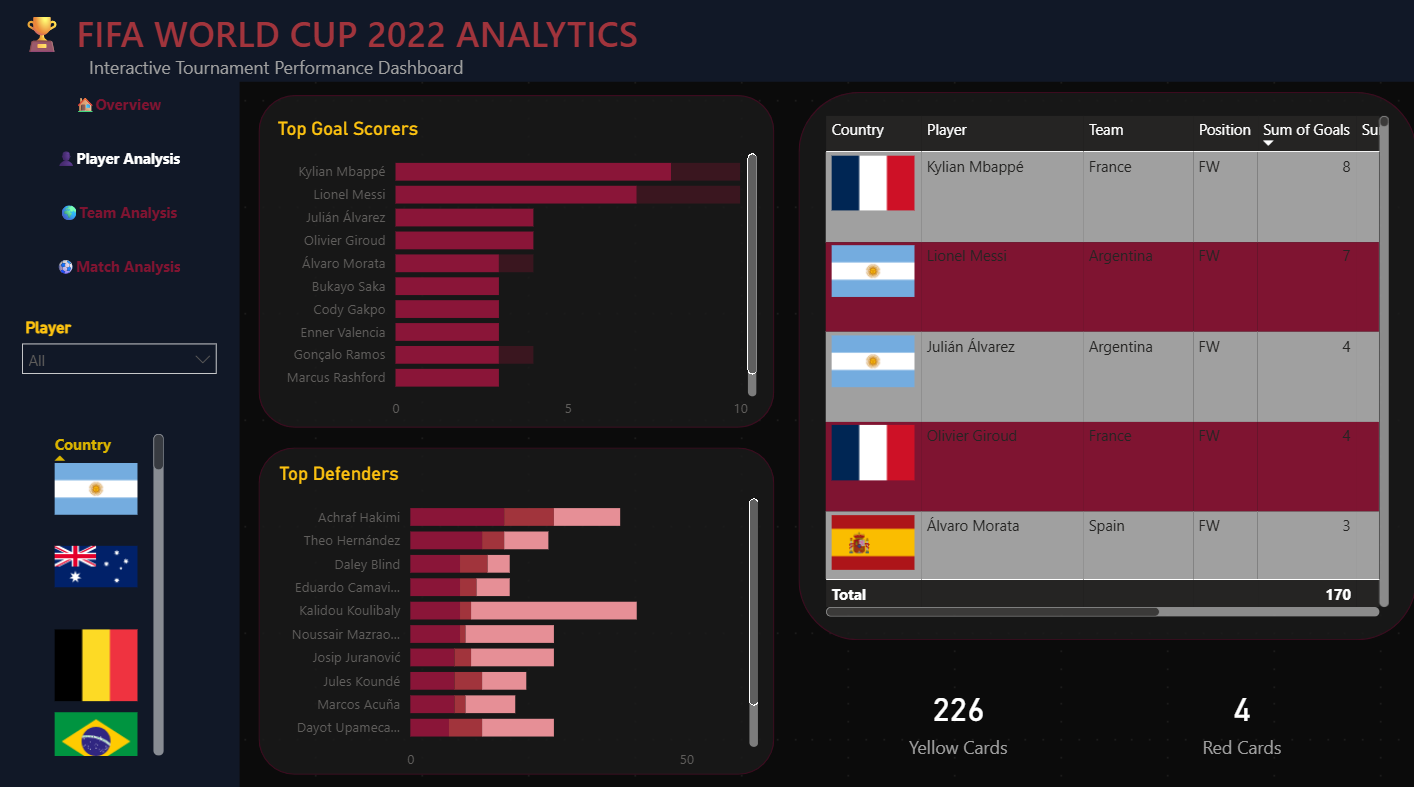

The dashboard page shown, as its layout file describes it:
{"tool":"powerbi","page":{"name":"👤Player Analysis","canvas":[1280,720],"ordinal":1},"visuals":[{"type":"shape","box":[722.9,88.6,557.1,494.3],"z":0},{"type":"shape","box":[0,0,219.4,819.8],"z":1000},{"type":"shape","box":[0,0,1600,80],"z":2000},{"type":"textbox","box":[0,10,1590,50],"z":3000},{"type":"textbox","box":[0,50,1380,40],"z":4000},{"type":"pageNavigator","box":[0,80.4,220.5,189.4],"z":5000},{"type":"shape","box":[236.7,91.7,465,300],"z":6000},{"type":"barChart","title":"Top Goal Scorers","fields":{"Category":["Players.Player"],"Y":["Sum(Players.Goals)","Sum(Players.Assists)"]},"box":[248.3,111.7,441.7,280],"z":7000},{"type":"tableEx","fields":{"Values":["Players.Country FLag","Players.Player","Players.Team","Players.Position","Sum(Players.Goals)","Sum(Players.Assists)","Sum(Players.Shots)","Sum(Players.Passes Completed)"]},"box":[741.7,105,518.3,461.7],"z":8000},{"type":"slicer","fields":{"Values":["Players.Player"]},"box":[13.3,288.3,195,71.7],"z":9000},{"type":"card","fields":{"Values":["Sum(Players.Yellow Cards)"]},"box":[761.7,590,211.7,130],"z":10000},{"type":"card","fields":{"Values":["Sum(Players.Red Cards)"]},"box":[1001.7,590,241.7,130],"z":11000},{"type":"shape","box":[236.7,410,465,295],"z":12000},{"type":"barChart","title":"Top Defenders","fields":{"Y":["Sum(Players.successful_tackles)","Sum(Players.interceptions)","Sum(Players.clearence)"],"Category":["Players.Player"]},"box":[250,423.3,441.7,285],"z":13000},{"type":"tableEx","fields":{"Values":["Players.Country FLag"]},"box":[42,392,114,300],"z":14000}]}

Visuals, with their boxes on the page's 1280x720 design canvas (x1, y1, x2, y2). These are canvas units, not pixel positions in the 1414x787 screenshot, which may show the page scaled, cropped or inside an application window:
shape: {"x1": 723, "y1": 89, "x2": 1280, "y2": 583}
shape: {"x1": 0, "y1": 0, "x2": 219, "y2": 820}
shape: {"x1": 0, "y1": 0, "x2": 1600, "y2": 80}
textbox: {"x1": 0, "y1": 10, "x2": 1590, "y2": 60}
textbox: {"x1": 0, "y1": 50, "x2": 1380, "y2": 90}
pageNavigator: {"x1": 0, "y1": 80, "x2": 220, "y2": 270}
shape: {"x1": 237, "y1": 92, "x2": 702, "y2": 392}
"Top Goal Scorers" barChart: {"x1": 248, "y1": 112, "x2": 690, "y2": 392}
tableEx - Players.Country FLag x Players.Player: {"x1": 742, "y1": 105, "x2": 1260, "y2": 567}
slicer - Players.Player: {"x1": 13, "y1": 288, "x2": 208, "y2": 360}
card - Sum(Players.Yellow Cards): {"x1": 762, "y1": 590, "x2": 973, "y2": 720}
card - Sum(Players.Red Cards): {"x1": 1002, "y1": 590, "x2": 1243, "y2": 720}
shape: {"x1": 237, "y1": 410, "x2": 702, "y2": 705}
"Top Defenders" barChart: {"x1": 250, "y1": 423, "x2": 692, "y2": 708}
tableEx - Players.Country FLag: {"x1": 42, "y1": 392, "x2": 156, "y2": 692}
